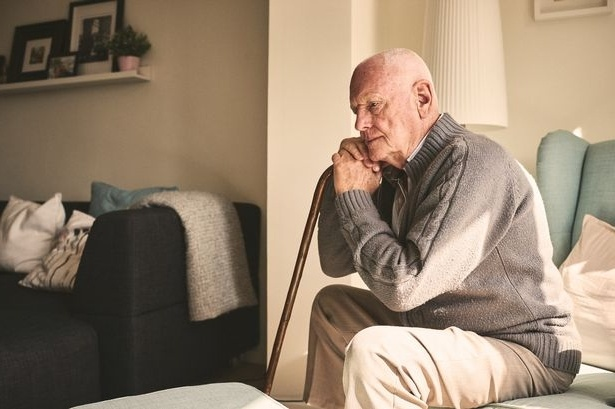not_fallen: (248, 47, 589, 408)
